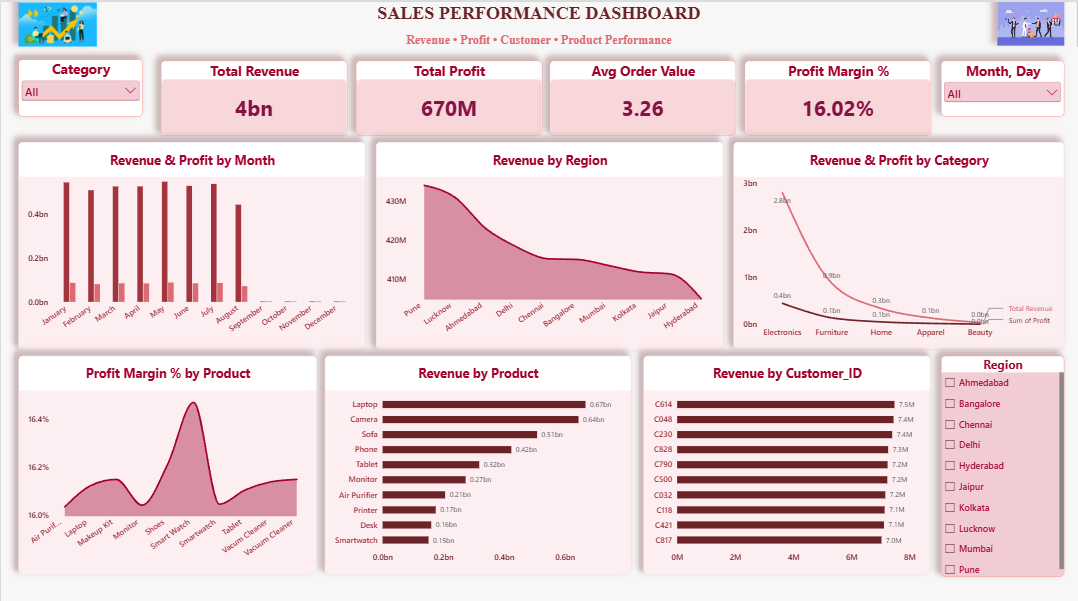

The dashboard page shown, as its layout file describes it:
{"tool":"powerbi","page":{"name":"Sales Performance Dashboard","canvas":[1920,1080],"ordinal":0},"visuals":[{"type":"cardVisual","title":"Total Revenue","fields":{"Data":["Sales Data - Raw_Data.Total Revenue"]},"box":[284,105,331.4,133.8],"z":0},{"type":"cardVisual","title":"Total Profit","fields":{"Data":["Sales Data - Raw_Data.Total Profit"]},"box":[631.9,105,331,133],"z":1000},{"type":"cardVisual","title":"Avg Order Value","fields":{"Data":["Sales Data - Raw_Data.Average Orders Value"]},"box":[975.6,105,331,133],"z":2000},{"type":"cardVisual","title":"Profit Margin %","fields":{"Data":["Sales Data - Raw_Data.Profit Margin %"]},"box":[1321.4,105,331.4,133],"z":3000},{"type":"lineClusteredColumnComboChart","title":"Revenue & Profit by Month","fields":{"Category":["Sales Data - Raw_Data.Order_Date.Variation.Date Hierarchy.Month"],"Y":["Sum(Sales Data - Raw_Data.Revenue)","Sales Data - Raw_Data.Total Profit"]},"box":[30.9,249.1,617,370],"z":4000},{"type":"areaChart","title":"Revenue by Region","fields":{"Category":["Sales Data - Raw_Data.Region"],"Y":["Sales Data - Raw_Data.Total Revenue"]},"box":[666,249.7,617.5,370],"z":5000},{"type":"lineChart","title":"Revenue & Profit by Category","fields":{"Category":["Sales Data - Raw_Data.Category"],"Y":["Sales Data - Raw_Data.Total Revenue","Sum(Sales Data - Raw_Data.Profit)"]},"box":[1303,249.7,588.1,369.2],"z":6000},{"type":"clusteredBarChart","title":"Revenue by Product","fields":{"Category":["Sales Data - Raw_Data.Product"],"Y":["Sum(Sales Data - Raw_Data.Revenue)"]},"box":[575.5,628,544.7,389.1],"z":7000},{"type":"areaChart","fields":{"Category":["Sales Data - Raw_Data.Product"],"Y":["Sales Data - Raw_Data.Profit Margin %"]},"box":[30.8,628,530.2,389.1],"z":8000},{"type":"clusteredBarChart","title":"Revenue by Customer_ID","fields":{"Category":["Sales Data - Raw_Data.Customer_ID"],"Y":["Sum(Sales Data - Raw_Data.Revenue)"]},"box":[1141.9,628,510.3,389.1],"z":9000},{"type":"slicer","title":"Category","fields":{"Values":["Sales Data - Raw_Data.Category"]},"box":[30.8,103.2,220.8,101.3],"z":10000},{"type":"slicer","title":"Region","fields":{"Values":["Sales Data - Raw_Data.Region"]},"box":[1672.1,628,219,392.7],"z":11000},{"type":"slicer","title":"Month, Day","fields":{"Values":["Sales Data - Raw_Data.Order_Date.Variation.Date Hierarchy.Month","Sales Data - Raw_Data.Order_Date.Variation.Date Hierarchy.Day"]},"box":[1672.1,105,219,99.5],"z":12000},{"type":"textbox","box":[0,0,1920.4,80.3],"z":13000},{"type":"image","box":[30.8,0,139.3,79.6],"z":14000},{"type":"image","box":[1771.7,0,119.4,77.8],"z":15000}]}

Visuals, with their boxes in screenshot pixels (x1, y1, x2, y2), scaled from the page's 1920x1080 canvas onto the 1078x601 screenshot:
"Total Revenue" cardVisual: <region>159, 58, 346, 133</region>
"Total Profit" cardVisual: <region>355, 58, 541, 132</region>
"Avg Order Value" cardVisual: <region>548, 58, 734, 132</region>
"Profit Margin %" cardVisual: <region>742, 58, 928, 132</region>
"Revenue & Profit by Month" lineClusteredColumnComboChart: <region>17, 139, 364, 345</region>
"Revenue by Region" areaChart: <region>374, 139, 721, 345</region>
"Revenue & Profit by Category" lineChart: <region>732, 139, 1062, 344</region>
"Revenue by Product" clusteredBarChart: <region>323, 349, 629, 566</region>
areaChart - Sales Data - Raw_Data.Product x Sales Data - Raw_Data.Profit Margin %: <region>17, 349, 315, 566</region>
"Revenue by Customer_ID" clusteredBarChart: <region>641, 349, 928, 566</region>
"Category" slicer: <region>17, 57, 141, 114</region>
"Region" slicer: <region>939, 349, 1062, 568</region>
"Month, Day" slicer: <region>939, 58, 1062, 114</region>
textbox: <region>0, 0, 1077, 45</region>
image: <region>17, 0, 96, 44</region>
image: <region>995, 0, 1062, 43</region>
